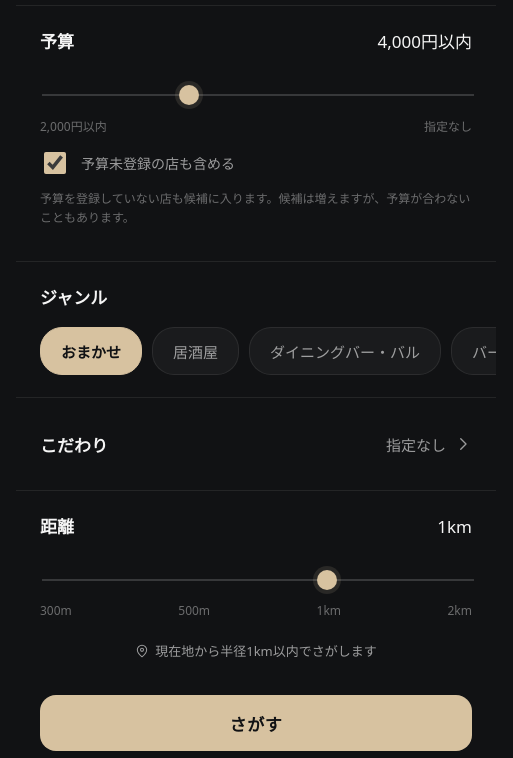
Test case: エラー › 位置情報を拒否すると再試行CTAが出る
Click the button "さがす" at (256,723), box top-left (40, 695), bottom-right (472, 751)
(page scrolled)
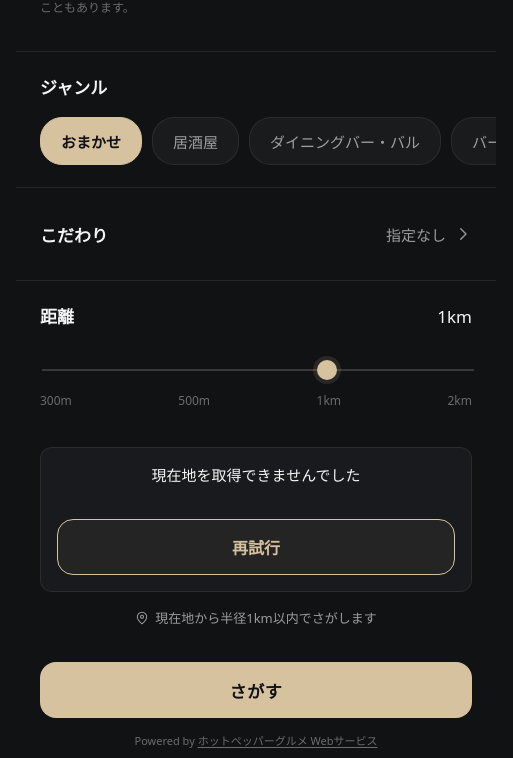
Expected: the text "現在地を取得できませんでした" is shown, top-left (152, 465), bottom-right (360, 485)
Expected: the button "再試行" is shown, top-left (57, 519), bottom-right (455, 575)
